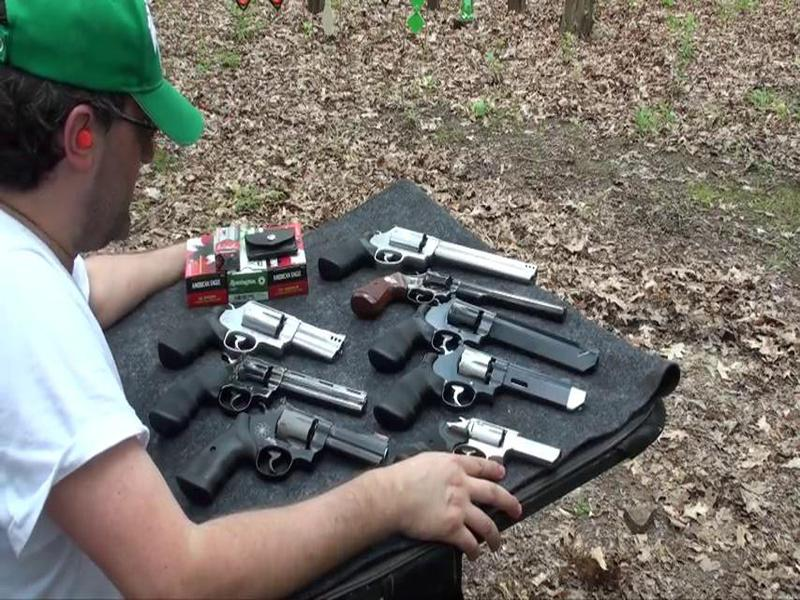Revolver: (137, 356, 347, 437)
